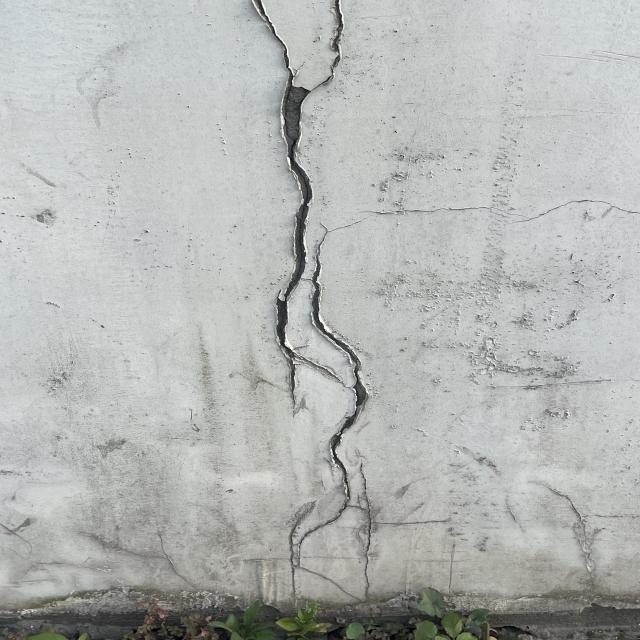crack: (221, 3, 392, 597)
